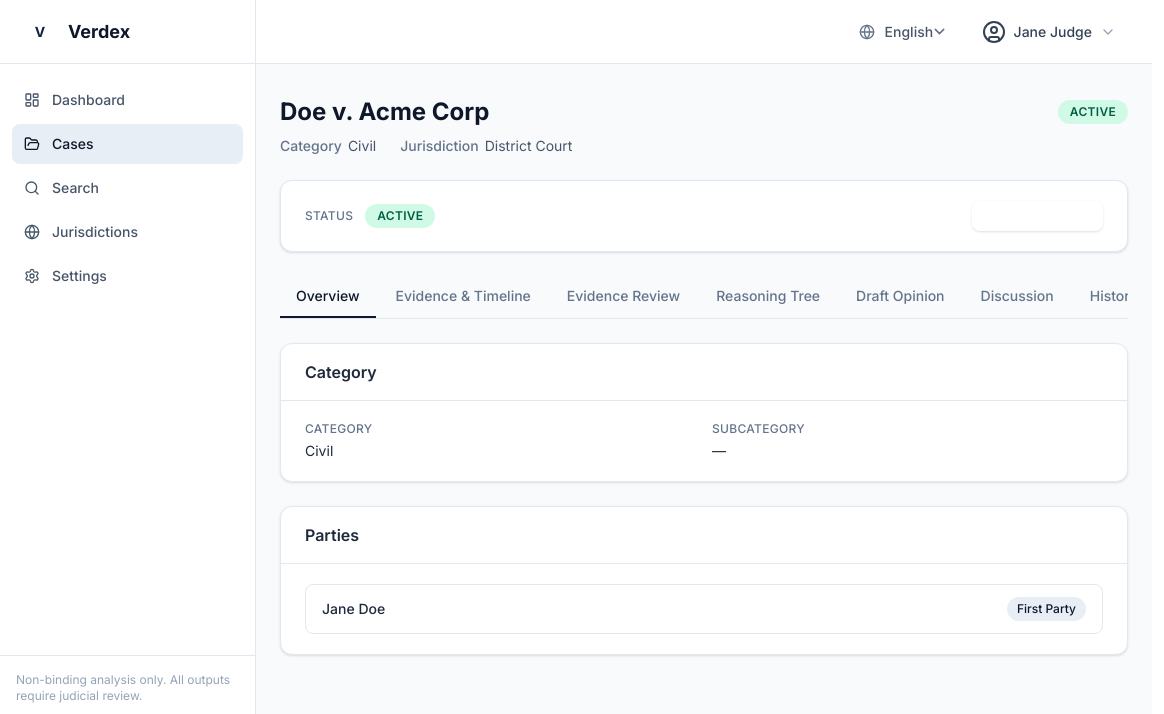
CaseWorkspacePage › switches panels when a different tab is selected
Check: the text "Jane Doe" is shown, box [322,599,385,619]
What coordinates should you click on to do the following:
click the tab "Reasoning Tree"
I would click on:
 (768, 297)
Its box is [700,276,836,318].
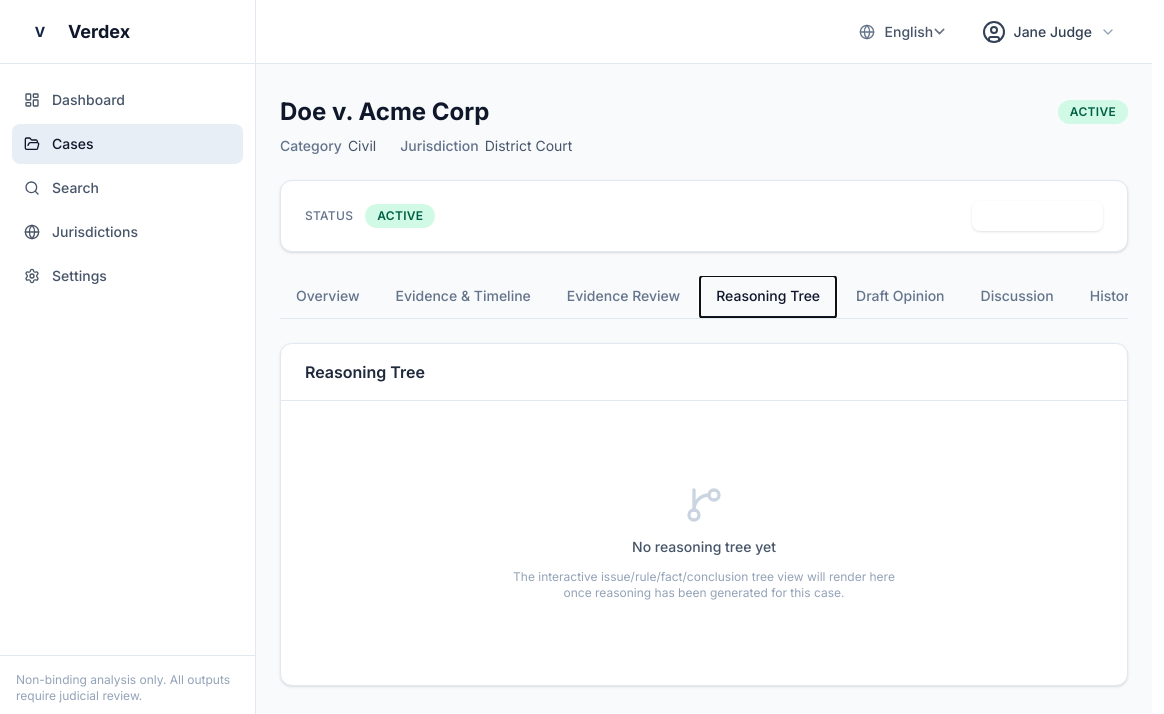
Check: the text "No reasoning tree yet" is shown, box [632,537,776,557]
Check: the text "Jane Doe" is gone
What coordinates should you click on to do the following:
click the tab "Draft Opinion"
I would click on:
 (900, 297)
Its box is [840,276,961,318].
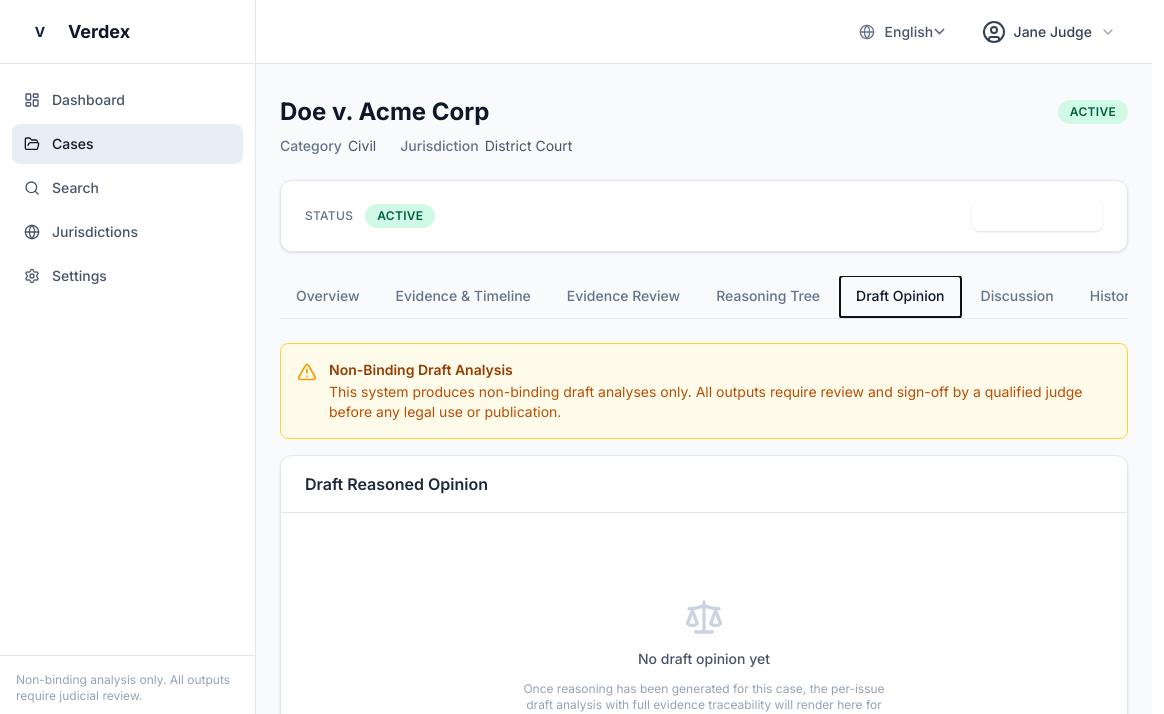
Check: the element named "non-binding disclaimer" is shown, box [280,343,1128,439]
